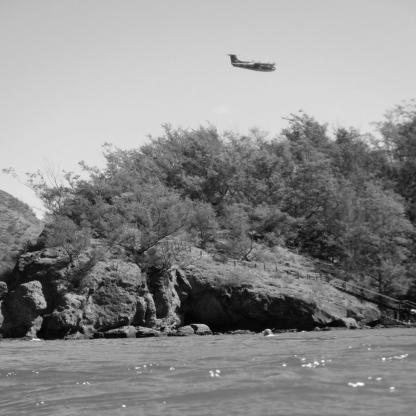US2: (224, 54, 279, 73)
